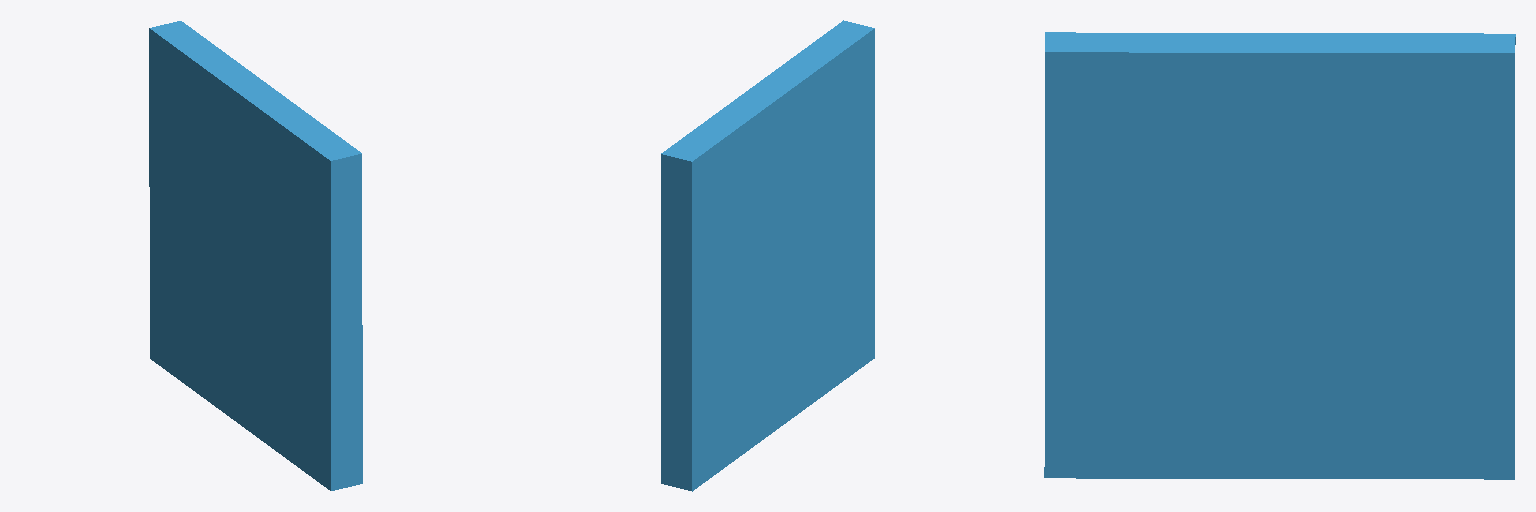
URDF robot description (ar_002):
<?xml version="1.0" ?>
<robot name="ar_002">

  <link
  name="aruco_lnk">
  </link>

    <link
        name="aruco_frame">
         <inertial>
            <origin
                xyz="0 0 0"
                rpy="0 0 0"/>
            <mass
                value="1" />
            <inertia
                ixx="0.02"
                ixy="0.001"
                ixz="0.001"
                iyy="0.02"
                iyz="0.001"
                izz="0.02" />
        </inertial>
        <visual>
            <origin
                xyz="0.0 0 0"
                rpy="0 3.14 4.71" />.
            <geometry>
                <mesh
                filename="package://megatrond_perception/aruco/urdf/ArUco5.dae" />
            </geometry>
        </visual>  
    </link>

    <joint name="aruco_jnt" type="fixed">
       <origin
       xyz="0 0 0"
       rpy="0 0 0" />
       <parent link="aruco_lnk"/>
       <child link="aruco_frame"/>
    </joint>

    <!-- Gazebo base controller plugin -->
    <gazebo>
        <plugin name="object_controller" filename="libgazebo_ros_planar_move.so">
        <commandTopic>vel_cmd</commandTopic>
        <odometryTopic>aruco_odom</odometryTopic>
        <odometryFrame>aruco_odom</odometryFrame>
        <odometryRate>20.0</odometryRate>
        <robotBaseFrame>aruco_lnk</robotBaseFrame>
        <publishTF>false</publishTF>
        </plugin>
    </gazebo>

    <gazebo reference="aruco_lnk">
      <turnGravityOff>true</turnGravityOff>
    </gazebo>

    <gazebo reference="base_link">
      <turnGravityOff>true</turnGravityOff>
    </gazebo>

</robot>
    

--- Render facts (derived) ---
Views: 3 orthographic renders of the robot side by side, from view 1: azimuth 30°, elevation 25°; view 2: azimuth 150°, elevation 25°; view 3: azimuth 270°, elevation 25°.
Robot: ar_002 — 2 links, 1 joints (1 fixed); root link aruco_lnk; default pose: every joint at zero.
Visible links, largest first — view 1: aruco_frame; view 2: aruco_frame; view 3: aruco_frame.
Link boxes in pixels (x1,y1,x2,y2): aruco_frame: (149,21,362,490); aruco_frame: (661,20,874,491); aruco_frame: (1044,32,1515,479).
Bounding box of the posed robot: 0.0205 × 0.2004 × 0.2003 m (x, y, z).
Meshes: 1 distinct files referenced, 1 mesh visuals loaded (1 Collada DAE).
